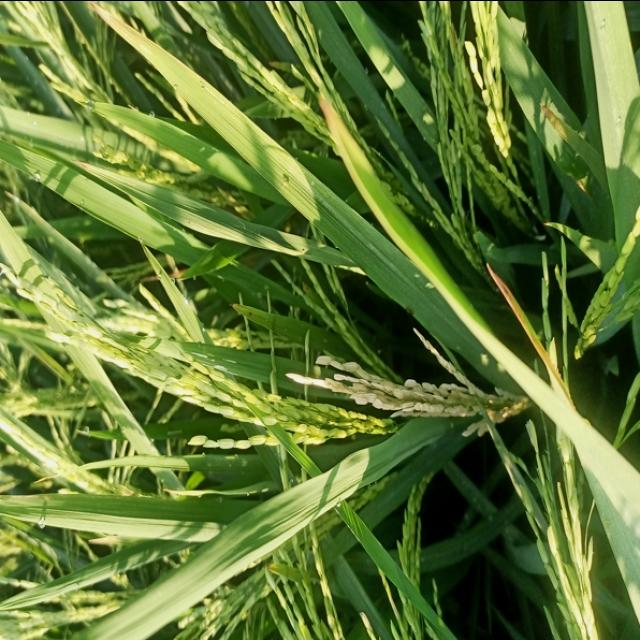Brown spot: (81, 0, 162, 63)
